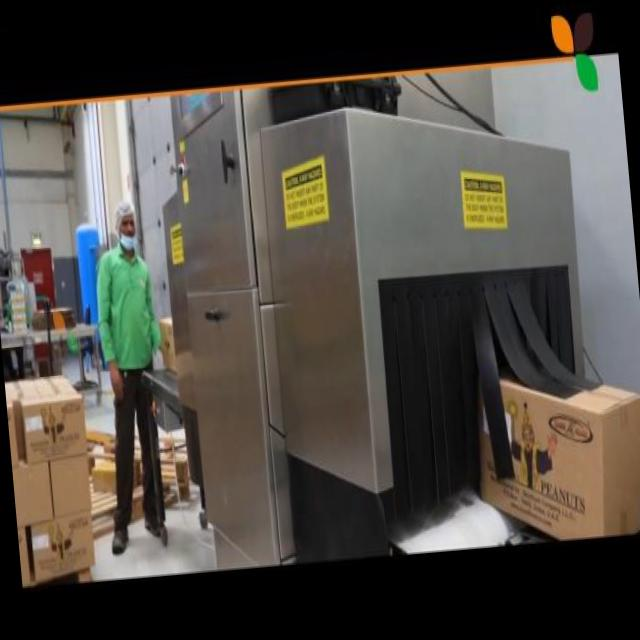hairnet: (112, 198, 135, 224)
